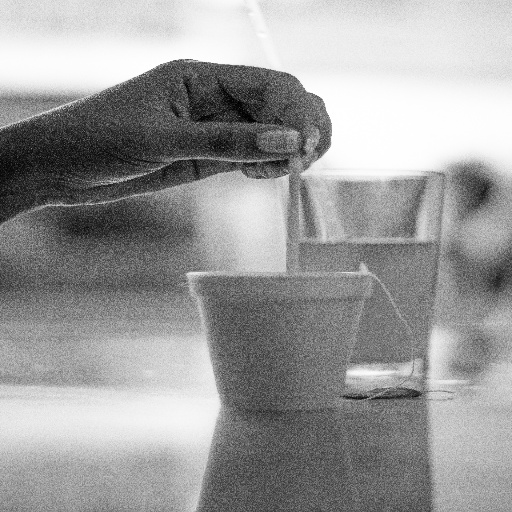hand: (48, 56, 334, 208)
